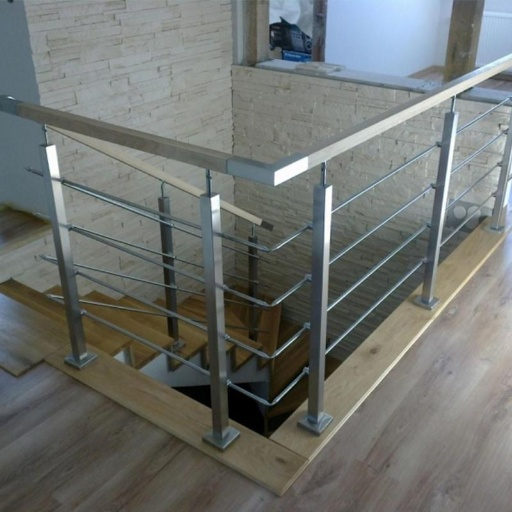Stairs: (80, 290, 210, 404), (225, 302, 308, 423), (0, 279, 66, 328)
